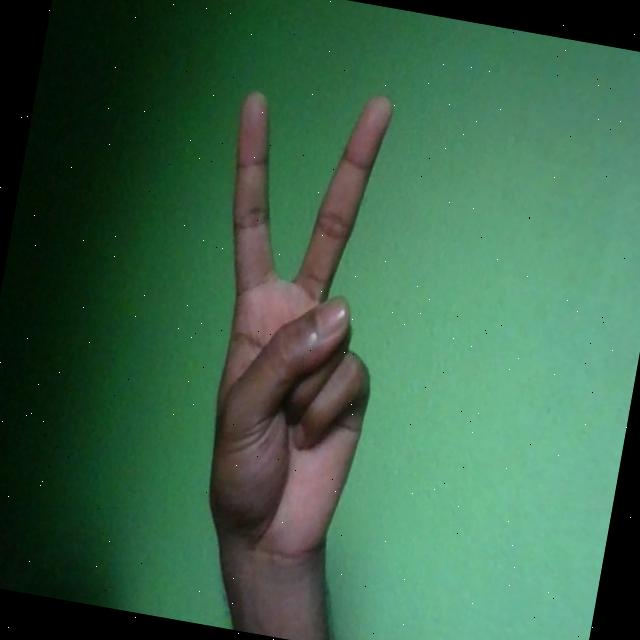Fist: (162, 69, 420, 578)
